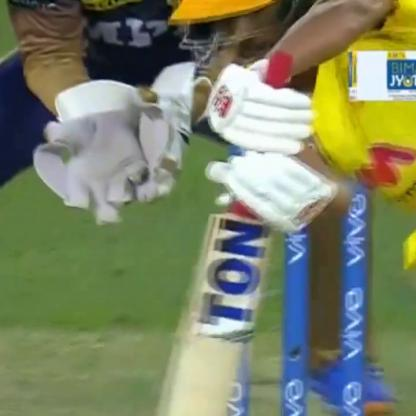bat: (158, 51, 292, 416)
